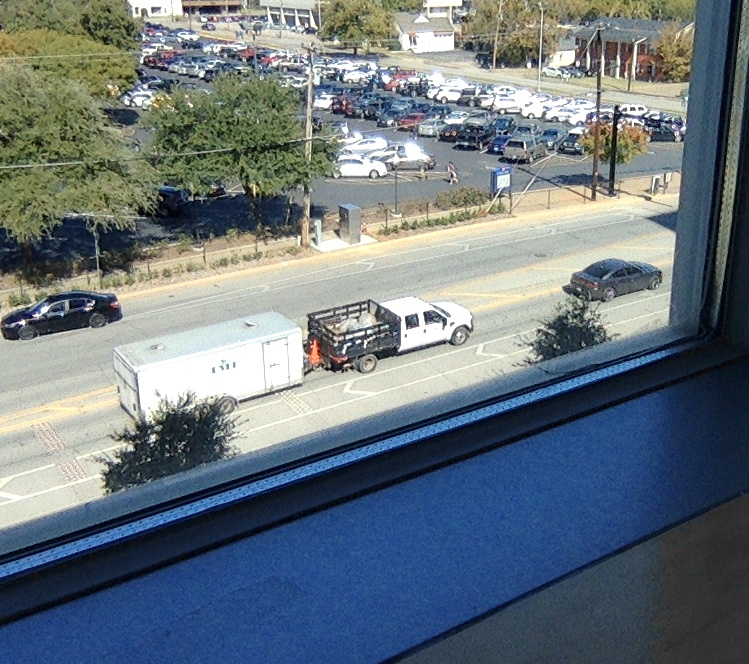car: (300, 300, 449, 379)
